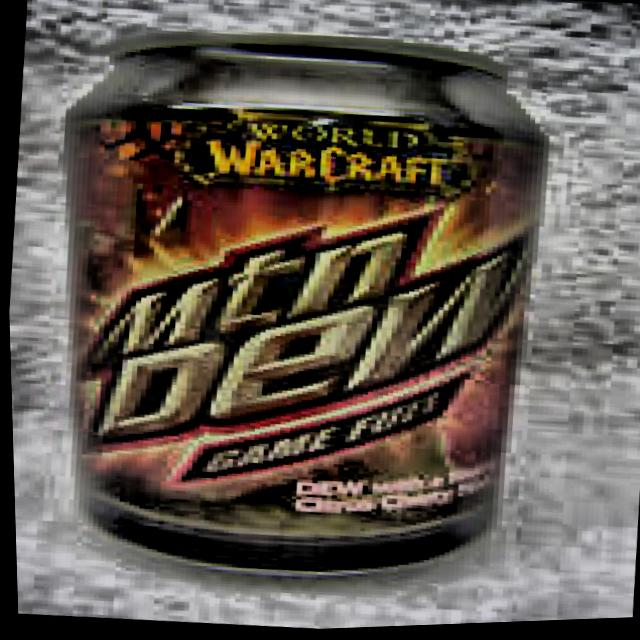Cans: (19, 15, 591, 620)
